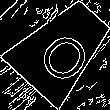O_NE: (28, 15, 96, 82)
